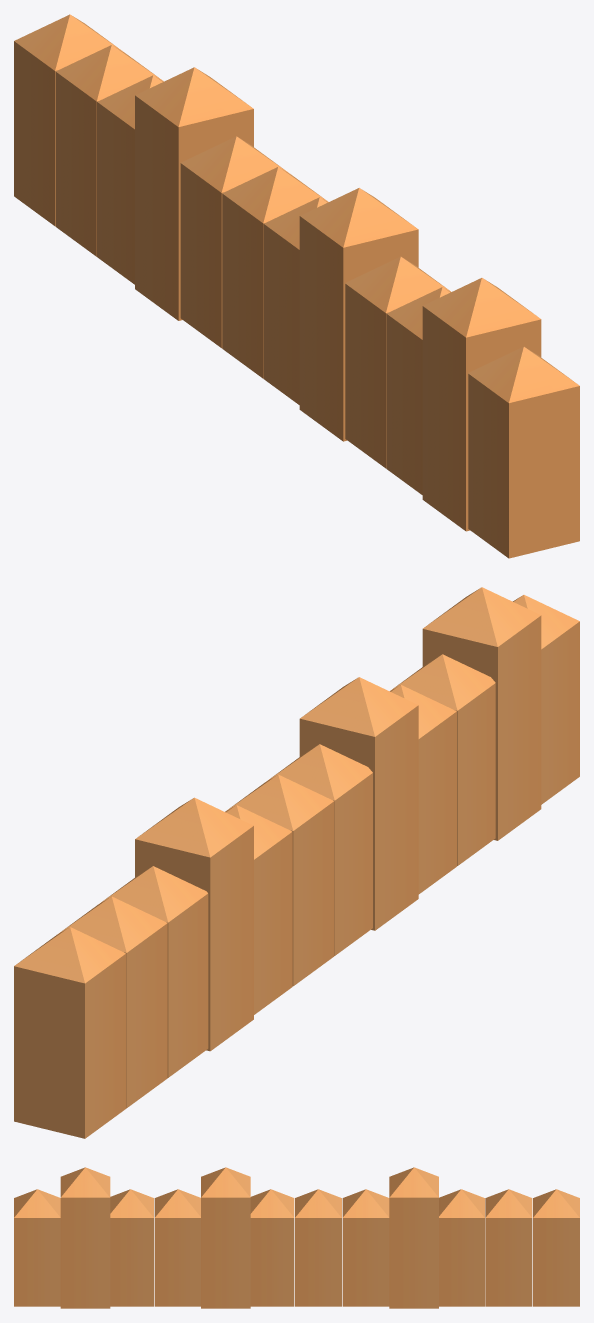
The model's file is Fence.fbx.
3 views of the same model, one above another, from view 1: azimuth 30°, elevation 25°; view 2: azimuth 150°, elevation 25°; view 3: azimuth 270°, elevation 25° (orthographic). The views are drawn at different scales.
Parts seen in each view (by area): view 1: Fence; view 2: Fence; view 3: Fence.
Boxes of the visible parts, x1,y1,x2,y2 form: Fence: [14, 14, 579, 558]; Fence: [14, 587, 579, 1138]; Fence: [14, 1167, 579, 1308].
Size of the model in its own units: 0.1105 by 0.3207 by 1.26.
Materials: 1 (1 with a texture image).
